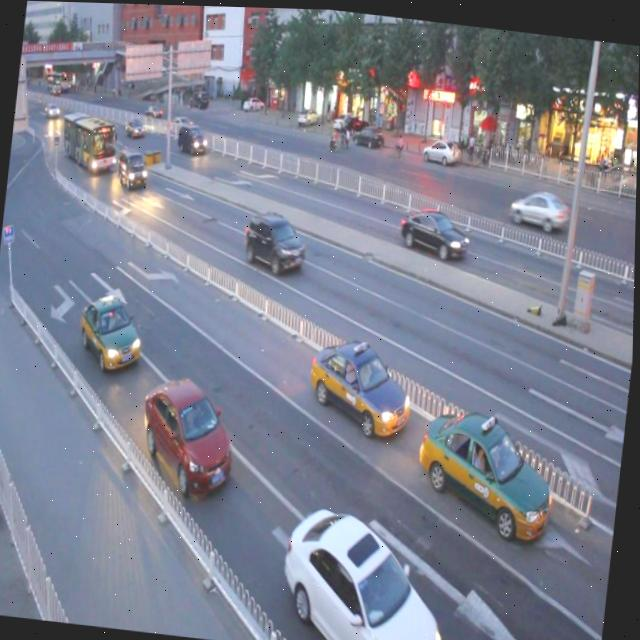car: (277, 500, 457, 640), (414, 397, 562, 538), (136, 369, 241, 498), (304, 330, 419, 437), (78, 291, 146, 373), (241, 208, 308, 276), (398, 201, 472, 260), (507, 182, 572, 230)
